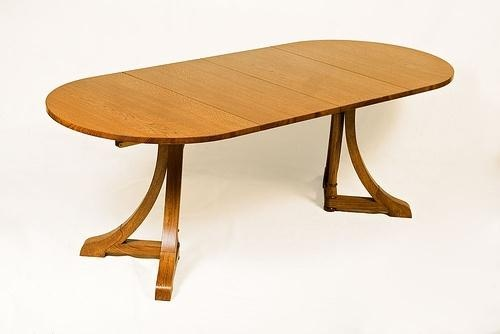diningtable: (46, 39, 456, 304)
